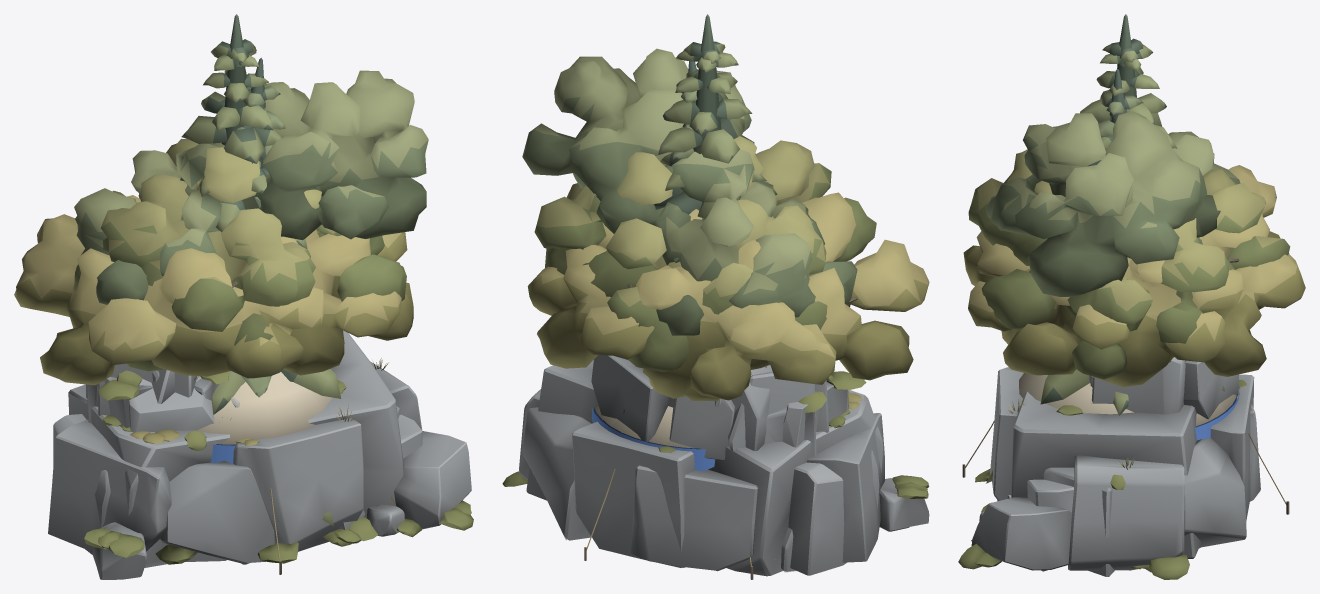
The model's file is props-ca9113d8.glb.
The picture shows the model from 3 angles, left to right: view 1: azimuth 30°, elevation 25°; view 2: azimuth 150°, elevation 25°; view 3: azimuth 270°, elevation 25°; orthographic projection. The views are drawn at different scales.
Parts seen in each view (by area): view 1: cliff-1-stone, tree-oak-2-canopy, tree-oak-3-canopy, tree-oak-1-canopy, tree-pine-1-crown, cliff-2-stone, tent-canvas, tree-pine-2-crown; view 2: cliff-1-stone, tree-oak-2-canopy, tree-oak-3-canopy, tree-oak-1-canopy, tree-pine-1-crown, cliff-2-stone, tent-canvas, tent-team; view 3: cliff-1-stone, tree-oak-3-canopy, tree-oak-2-canopy, tree-oak-1-canopy, tree-pine-1-crown, tent-canvas, cliff-2-stone, tree-pine-2-crown, tent-team.
Part boxes in pixels (x1,y1,x2,y2): cliff-1-stone: (48,330,473,579); tree-oak-2-canopy: (14,193,413,385); tree-oak-3-canopy: (74,70,428,304); tree-oak-1-canopy: (73,138,406,371); tree-pine-1-crown: (180,14,341,525); cliff-2-stone: (86,369,422,564); tent-canvas: (198,372,332,444); tree-pine-2-crown: (237,57,285,397); cliff-1-stone: (502,355,929,576); tree-oak-2-canopy: (527,192,929,400); tree-oak-3-canopy: (522,48,857,335); tree-oak-1-canopy: (534,136,876,371); tree-pine-1-crown: (621,14,777,413); cliff-2-stone: (715,371,866,572); tent-canvas: (595,406,694,448); tent-team: (591,407,715,470); cliff-1-stone: (958,357,1260,579); tree-oak-3-canopy: (986,111,1240,296); tree-oak-2-canopy: (963,165,1305,387); tree-oak-1-canopy: (968,149,1290,379); tree-pine-1-crown: (986,14,1224,483); tent-canvas: (1019,373,1236,426); cliff-2-stone: (981,479,1200,572); tree-pine-2-crown: (1098,68,1142,137); tent-team: (1195,384,1239,440).
Bounding box in the file's own units: 5.2 × 6.65 × 4.25.
